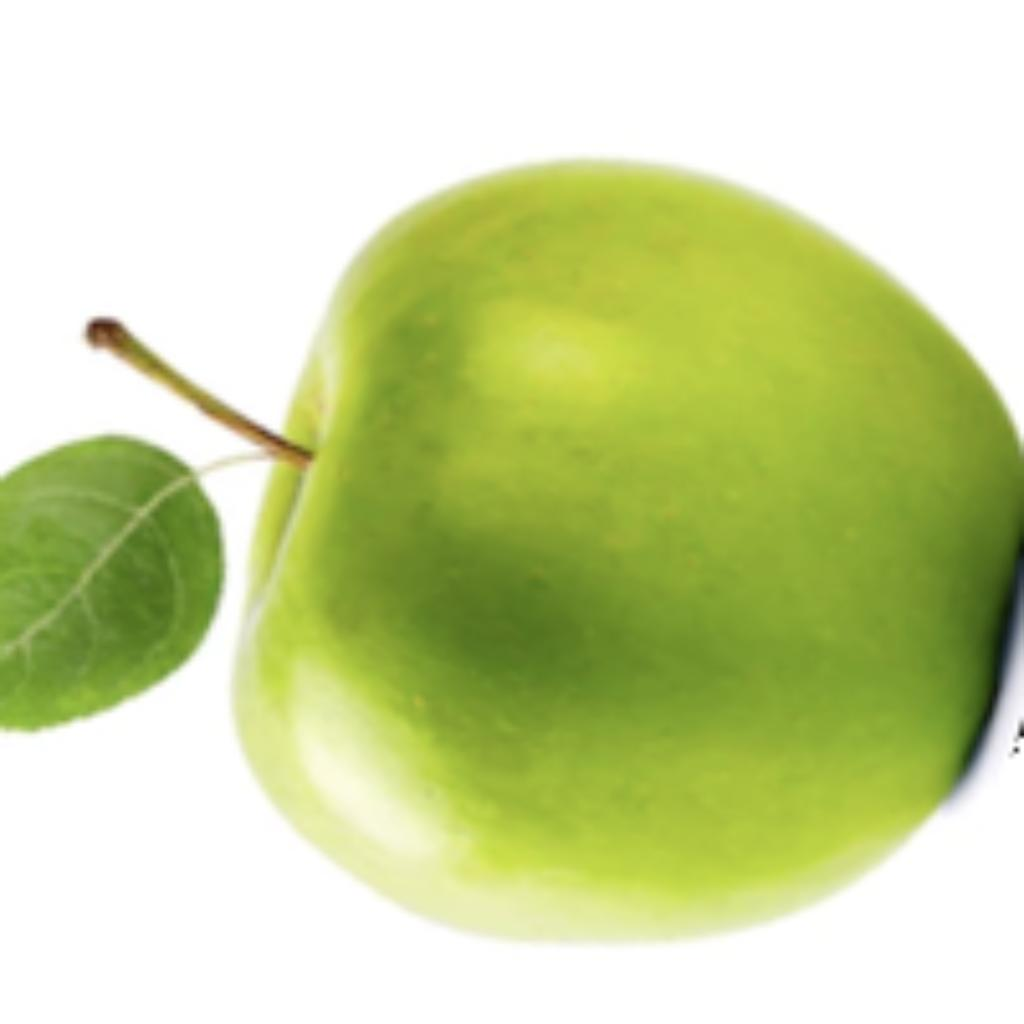apple: (0, 148, 1019, 947)
